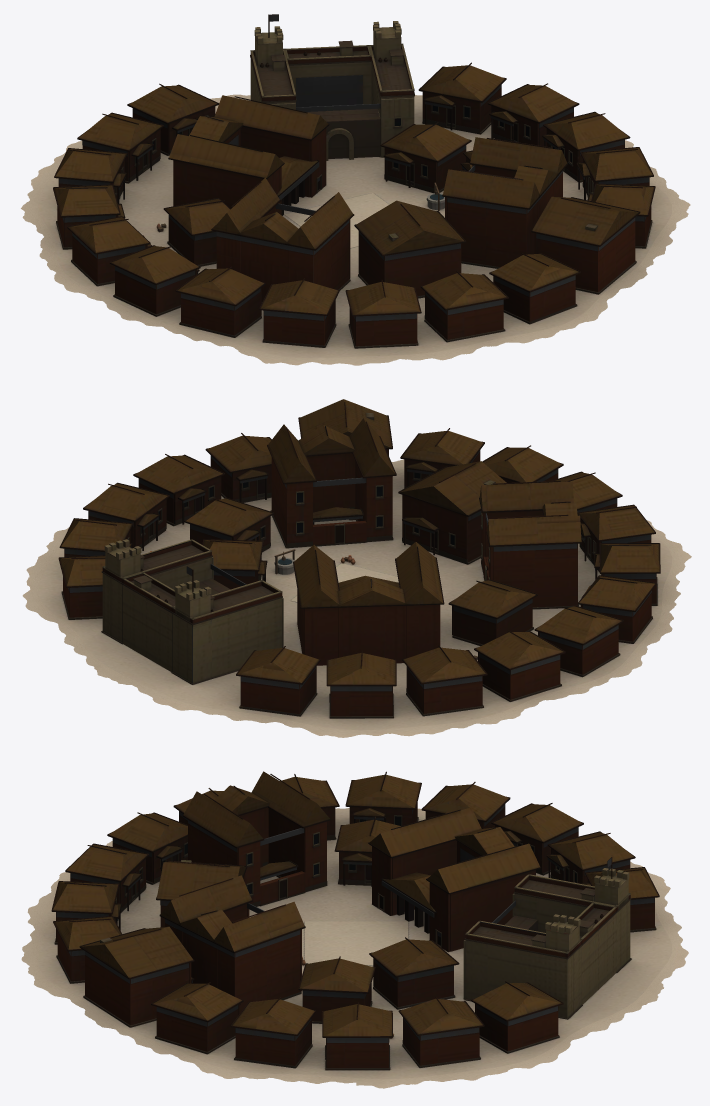
Rendered from gunpowder-town-big-b-westafrica.glb.
3 renders of one model, top to bottom at view 1: azimuth 30°, elevation 25°; view 2: azimuth 150°, elevation 25°; view 3: azimuth 270°, elevation 25°, orthographic.
Visible parts, largest first — view 1: LOD0; view 2: LOD0; view 3: LOD0.
Part boxes in pixels (<box>): LOD0: <box>21,14,690,365</box>; LOD0: <box>22,399,691,737</box>; LOD0: <box>21,771,688,1088</box>.
Size of what is drawn, in the model's own units: 7.95 by 1.4 by 7.93.
Materials: 3 (3 with a texture image).
